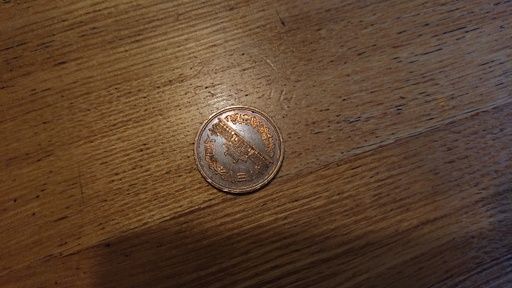10yen: (195, 107, 283, 195)
